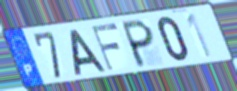0: (157, 15, 190, 63)
1: (186, 13, 213, 57)
7: (31, 31, 63, 80)
A: (69, 28, 108, 77)
F: (90, 22, 123, 73)
P: (121, 17, 157, 69)
